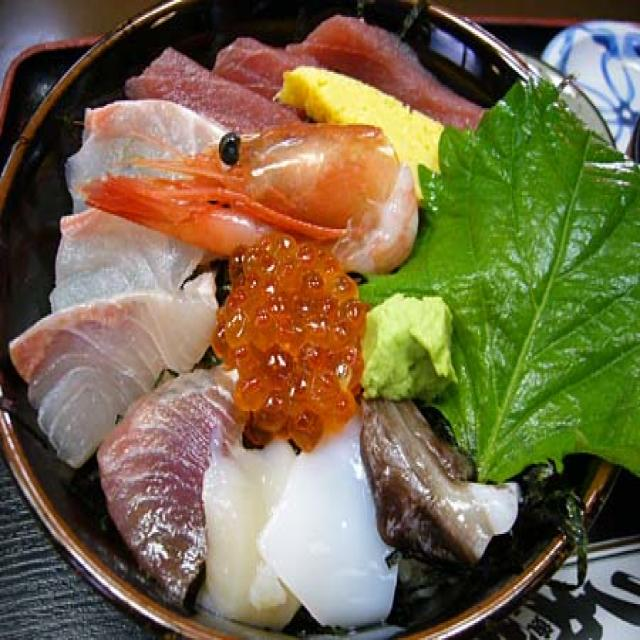刺身生食: (0, 0, 637, 640)
